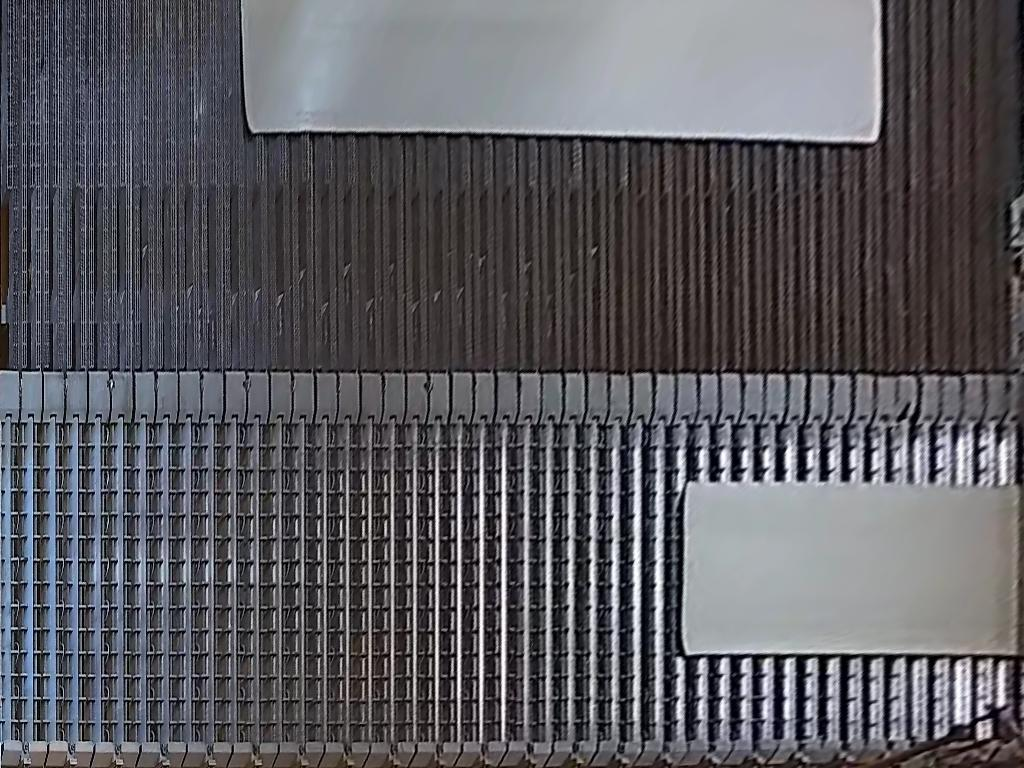steel: (240, 1, 882, 143), (680, 482, 1024, 658)
